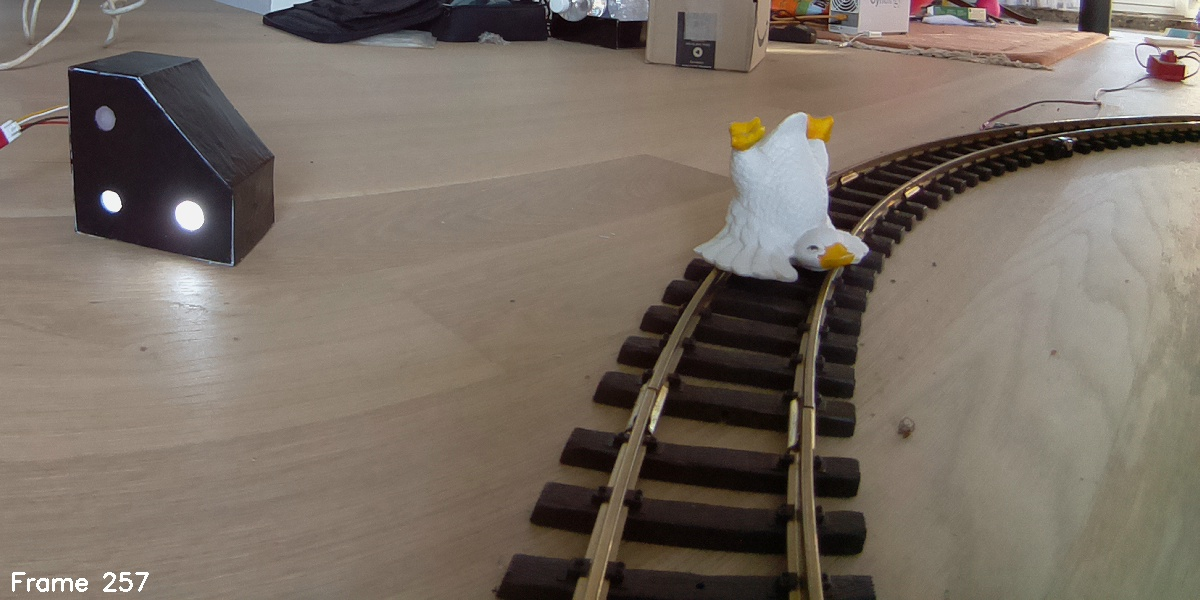Ente: (691, 105, 877, 289)
Halt: (68, 50, 280, 265)
